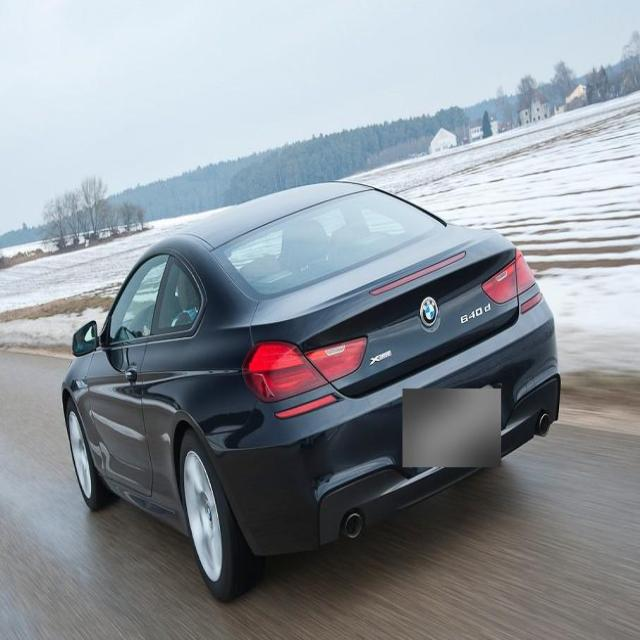back_glass: (211, 187, 447, 328)
back_left_side_light: (238, 333, 370, 408)
back_right_side_light: (481, 244, 538, 308)
front_left_side_door: (82, 242, 175, 503)
front_left_side_mirror: (69, 316, 105, 359)
rear_bumper: (201, 279, 562, 574)
wheel: (179, 425, 261, 601), (62, 396, 119, 512)
